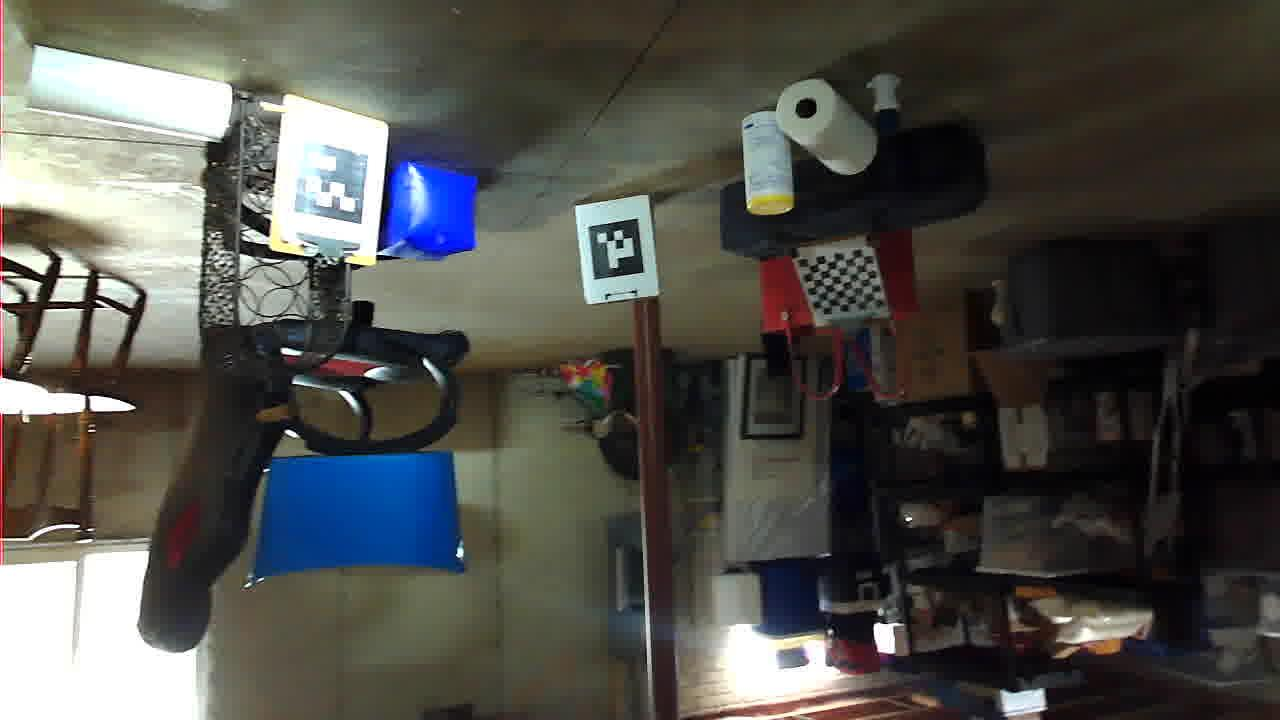coral: (1047, 577, 1256, 676)
